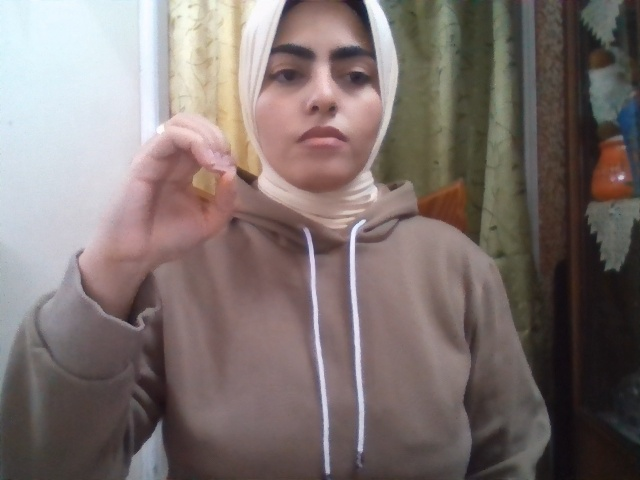O: (96, 111, 238, 268)
